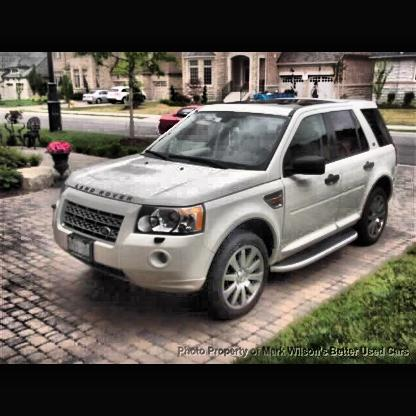Land Rover LR2 SUV 2012: (54, 97, 399, 321)
